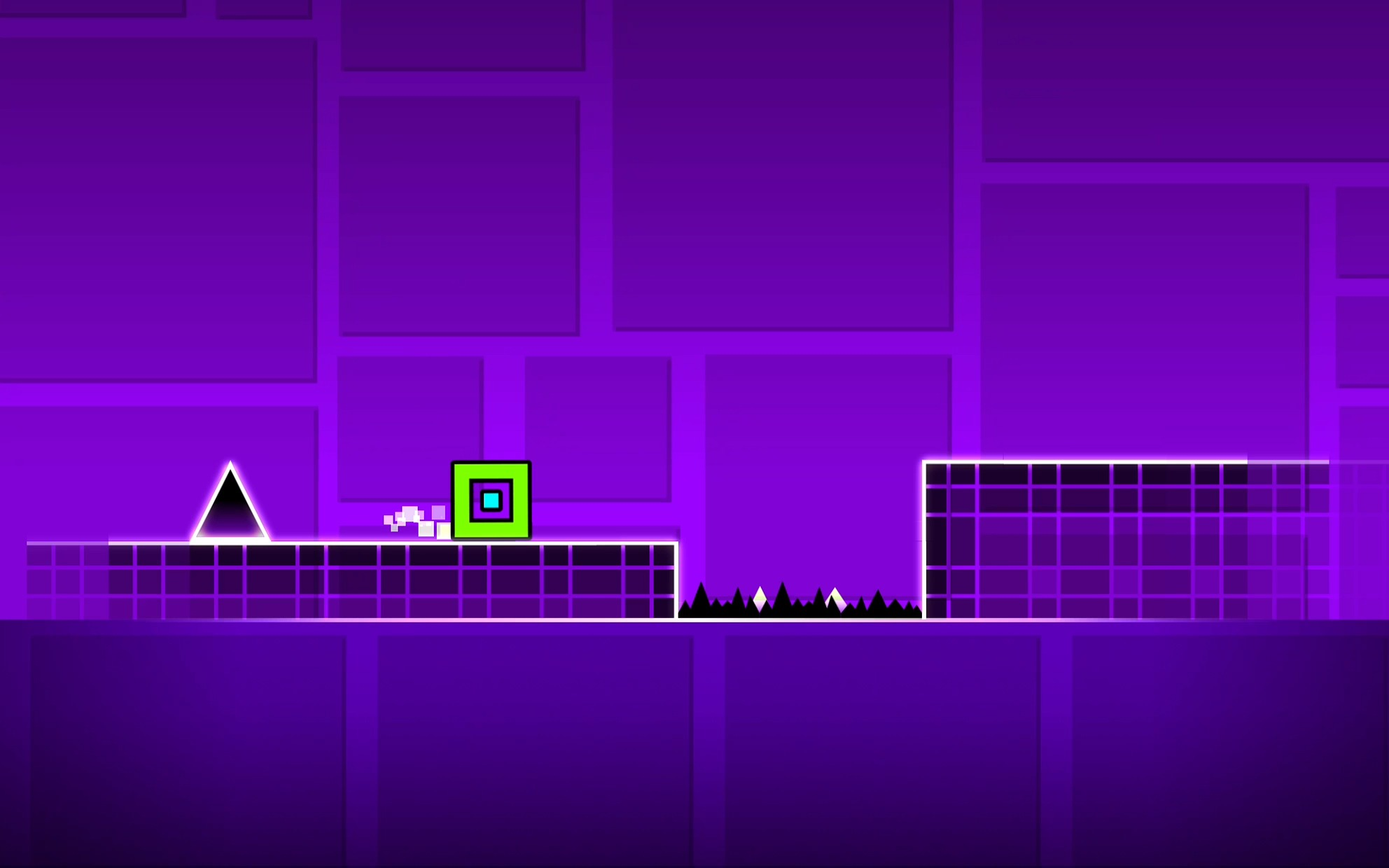Block2: (923, 460, 1355, 618), (24, 541, 670, 615)
Player: (449, 461, 530, 539)
Spike: (190, 463, 268, 539)
Spike3: (676, 581, 923, 622)
